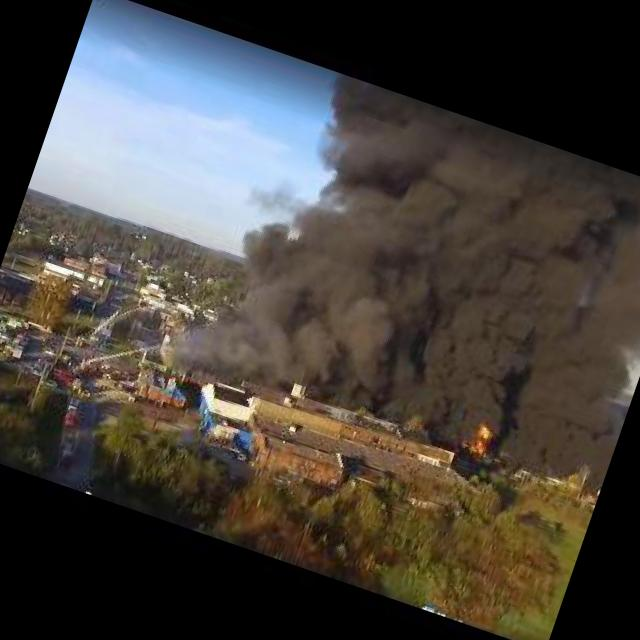fire: (457, 414, 502, 461)
smoke: (155, 48, 566, 456)
